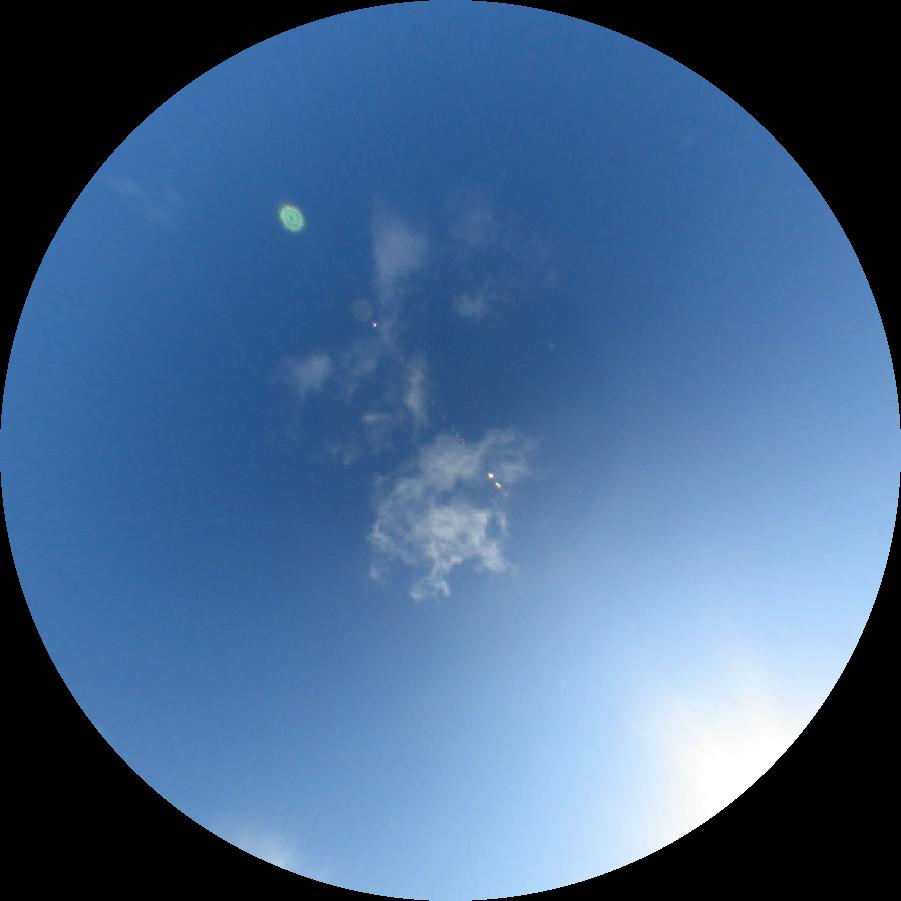sun: (676, 724, 799, 837)
